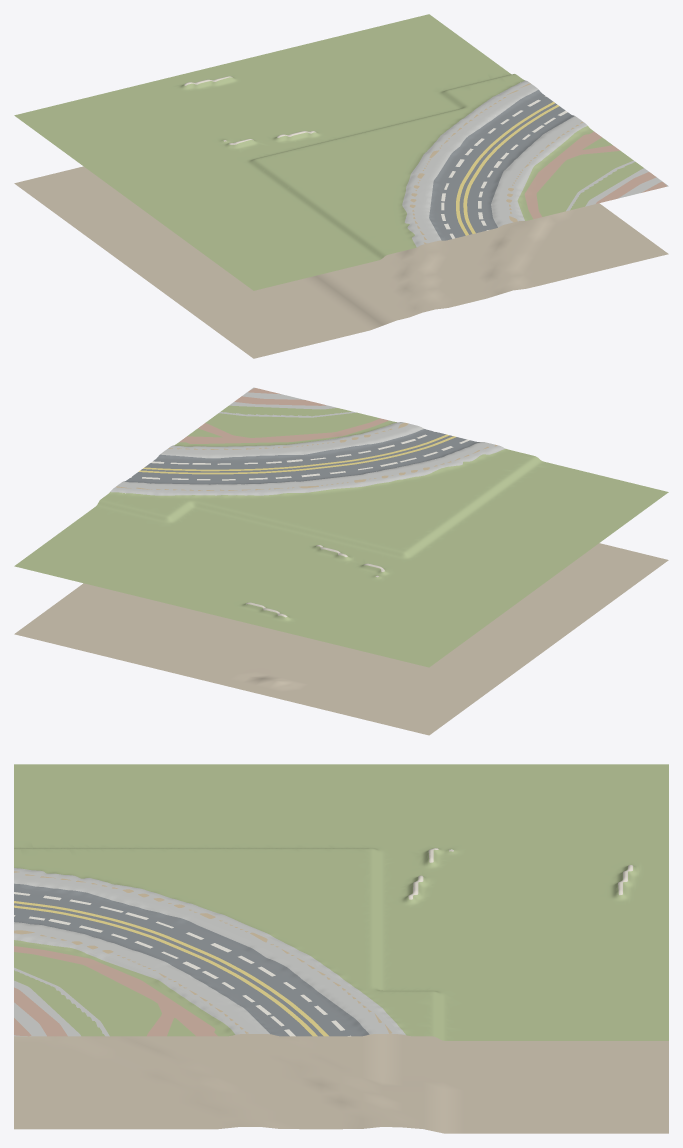
3 views of the same model, one above another, from view 1: azimuth 30°, elevation 25°; view 2: azimuth 150°, elevation 25°; view 3: azimuth 270°, elevation 25° (orthographic). The views are drawn at different scales.
Parts seen in each view (by area): view 1: s_-2_-6__grass, s_-2_-6__soil, s_-2_-6__stone_paving, s_-2_-6__asphalt, s_-2_-6__brick_paving, s_-2_-6__yellow_marking, s_-2_-6__white_marking, s_-2_-6__timber_deck; view 2: s_-2_-6__grass, s_-2_-6__soil, s_-2_-6__stone_paving, s_-2_-6__asphalt, s_-2_-6__brick_paving, s_-2_-6__yellow_marking, s_-2_-6__white_marking, s_-2_-6__timber_deck; view 3: s_-2_-6__grass, s_-2_-6__soil, s_-2_-6__stone_paving, s_-2_-6__asphalt, s_-2_-6__brick_paving, s_-2_-6__yellow_marking, s_-2_-6__white_marking, s_-2_-6__timber_deck.
Boxes of the visible parts, bbox=[...] form: s_-2_-6__grass: bbox=[14, 14, 643, 290]; s_-2_-6__soil: bbox=[14, 166, 668, 358]; s_-2_-6__stone_paving: bbox=[402, 80, 668, 247]; s_-2_-6__asphalt: bbox=[429, 89, 574, 240]; s_-2_-6__brick_paving: bbox=[524, 131, 666, 219]; s_-2_-6__yellow_marking: bbox=[456, 102, 559, 235]; s_-2_-6__white_marking: bbox=[441, 96, 567, 238]; s_-2_-6__timber_deck: bbox=[409, 83, 583, 243]; s_-2_-6__grass: bbox=[14, 405, 668, 667]; s_-2_-6__soil: bbox=[14, 495, 668, 735]; s_-2_-6__stone_paving: bbox=[110, 387, 505, 495]; s_-2_-6__asphalt: bbox=[124, 429, 479, 484]; s_-2_-6__brick_paving: bbox=[179, 388, 388, 443]; s_-2_-6__yellow_marking: bbox=[138, 434, 455, 474]; s_-2_-6__white_marking: bbox=[130, 431, 469, 480]; s_-2_-6__timber_deck: bbox=[116, 422, 497, 490]; s_-2_-6__grass: bbox=[14, 764, 668, 1040]; s_-2_-6__soil: bbox=[14, 946, 668, 1133]; s_-2_-6__stone_paving: bbox=[14, 868, 405, 1036]; s_-2_-6__asphalt: bbox=[14, 883, 369, 1036]; s_-2_-6__brick_paving: bbox=[14, 946, 217, 1036]; s_-2_-6__yellow_marking: bbox=[14, 901, 328, 1036]; s_-2_-6__white_marking: bbox=[14, 892, 350, 1036]; s_-2_-6__timber_deck: bbox=[14, 871, 391, 1033].
Size of the model in its own units: 128 by 21.51 by 128.
